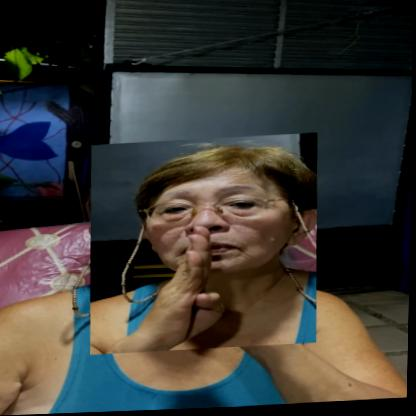Talk: (88, 135, 322, 355)
